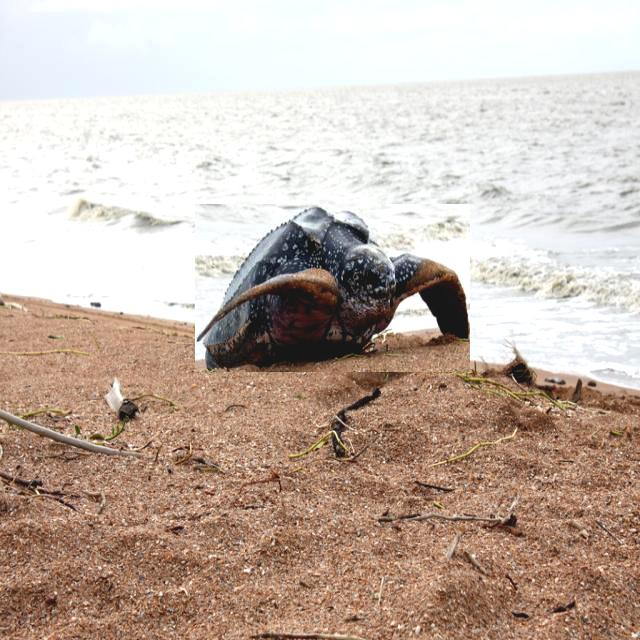Sea turtle: (195, 205, 470, 372)
